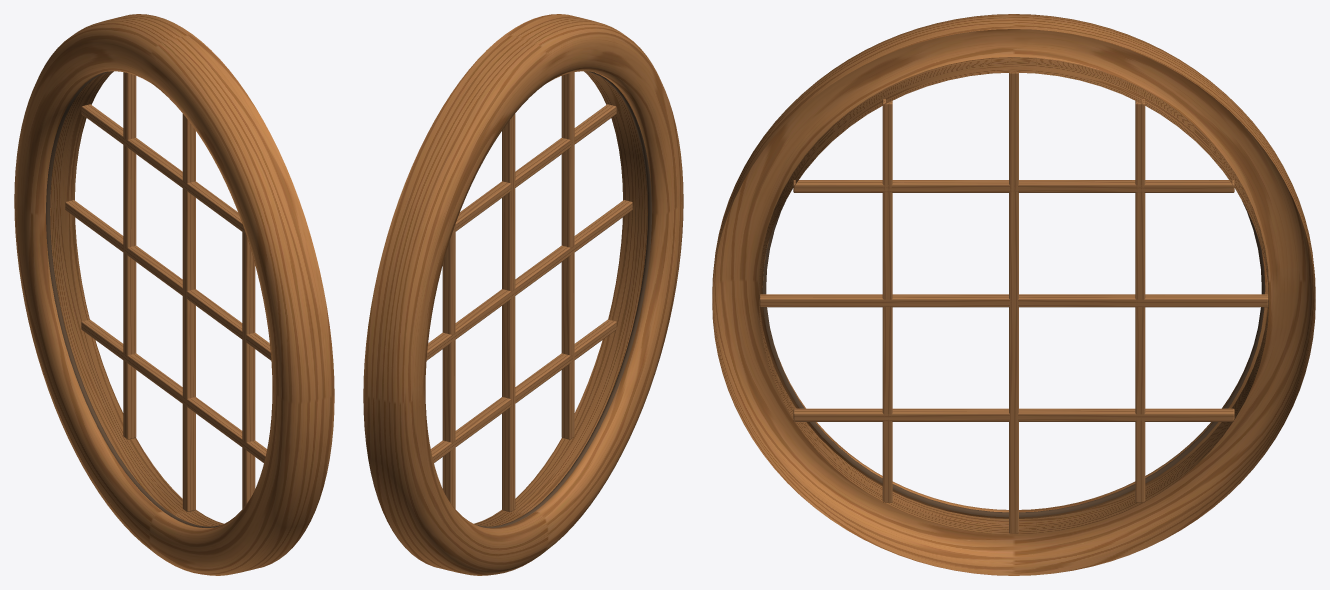
File: roundwindow.glb
The picture shows the model from 3 angles, left to right: view 1: azimuth 30°, elevation 25°; view 2: azimuth 150°, elevation 25°; view 3: azimuth 270°, elevation 25°; orthographic projection. The views are drawn at different scales.
Parts seen in each view (by area): view 1: RoundFrame, RoundReveal, RoundLatticeV+0.0, RoundLatticeV-0.2, RoundLatticeV+0.2, RoundLatticeH+0.0, RoundLatticeH-0.2, RoundLatticeH+0.2, RoundBead; view 2: RoundFrame, RoundReveal, RoundLatticeV+0.0, RoundLatticeV+0.2, RoundLatticeV-0.2, RoundLatticeH+0.0, RoundLatticeH-0.2, RoundLatticeH+0.2, RoundBead; view 3: RoundFrame, RoundReveal, RoundLatticeH+0.0, RoundLatticeH-0.2, RoundLatticeH+0.2, RoundLatticeV+0.0, RoundLatticeV-0.2, RoundLatticeV+0.2, RoundBead.
Boxes of the visible parts, <box> form: RoundFrame: <box>14,14,334,575</box>; RoundReveal: <box>50,71,223,526</box>; RoundLatticeV+0.0: <box>182,113,195,511</box>; RoundLatticeV-0.2: <box>123,72,136,439</box>; RoundLatticeV+0.2: <box>242,224,255,508</box>; RoundLatticeH+0.0: <box>65,200,271,360</box>; RoundLatticeH-0.2: <box>81,319,266,462</box>; RoundLatticeH+0.2: <box>81,104,245,233</box>; RoundBead: <box>46,71,221,527</box>; RoundFrame: <box>363,14,683,575</box>; RoundReveal: <box>474,71,647,526</box>; RoundLatticeV+0.0: <box>502,113,515,511</box>; RoundLatticeV+0.2: <box>561,72,574,439</box>; RoundLatticeV-0.2: <box>442,224,455,508</box>; RoundLatticeH+0.0: <box>426,200,632,360</box>; RoundLatticeH-0.2: <box>431,319,616,462</box>; RoundLatticeH+0.2: <box>452,104,616,233</box>; RoundBead: <box>476,71,651,527</box>; RoundFrame: <box>712,14,1315,575</box>; RoundReveal: <box>759,57,1268,534</box>; RoundLatticeH+0.0: <box>759,294,1268,307</box>; RoundLatticeH-0.2: <box>793,408,1234,421</box>; RoundLatticeH+0.2: <box>793,180,1234,192</box>; RoundLatticeV+0.0: <box>1009,72,1018,533</box>; RoundLatticeV-0.2: <box>1135,99,1145,502</box>; RoundLatticeV+0.2: <box>882,99,892,502</box>; RoundBead: <box>762,201,1265,517</box>.
Bounding box in the file's own units: 0.088 × 0.956 × 0.956.
Materials: 4 (3 with a texture image).
